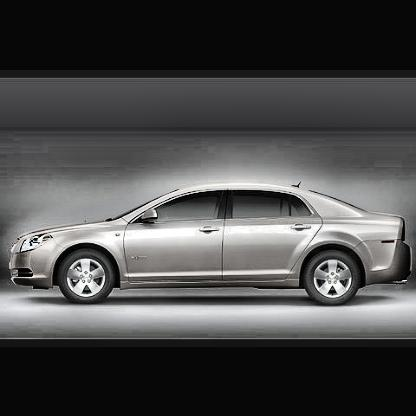Chevrolet Malibu Hybrid Sedan 2010: (10, 183, 414, 306)
